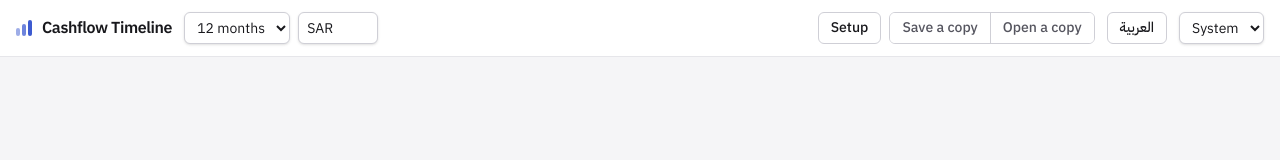
Test: AppBar › switches language with one tap, naming the other language, and remembers it
Click the button "العربية": {"x": 1137, "y": 28} [1107,12,1167,44]
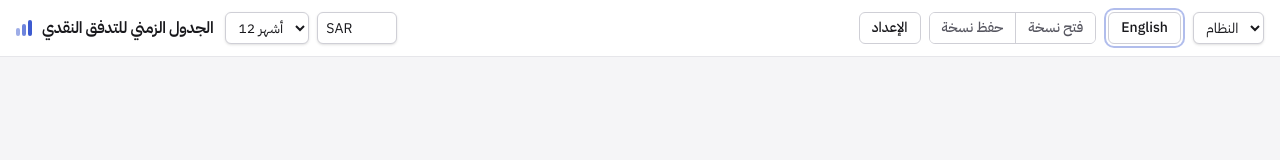
Click the button "English": {"x": 1145, "y": 28} [1108,12,1181,44]
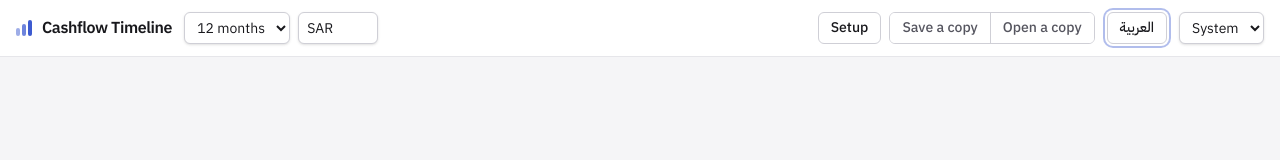
Now the button "العربية" is shown, box [1107,12,1167,44]
